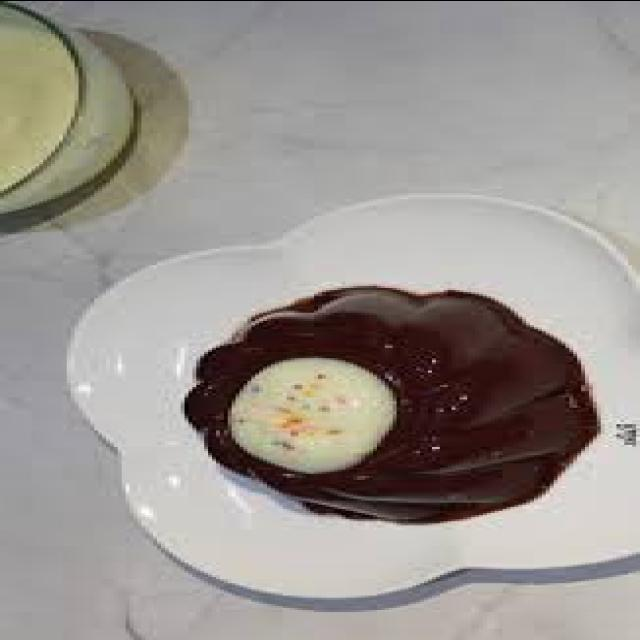puding: (168, 279, 606, 532)
